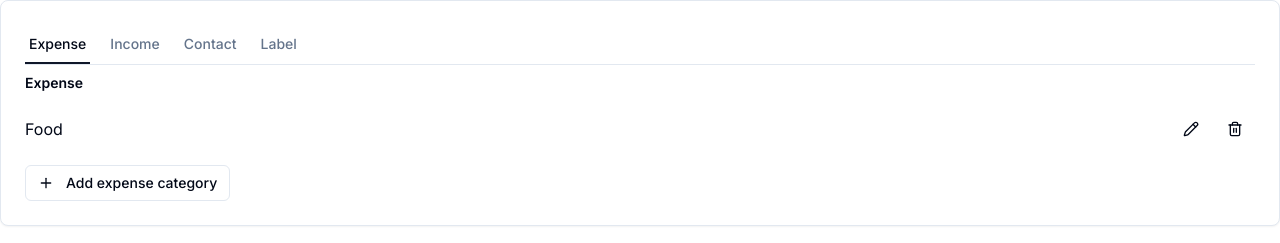
ProfileDictionariesPane › switches to the Label tab and shows the label dictionary
This screenshot has width=1280, height=243.
Step 1. Click the tab "Label" → (279, 45), box [256,26,301,64]
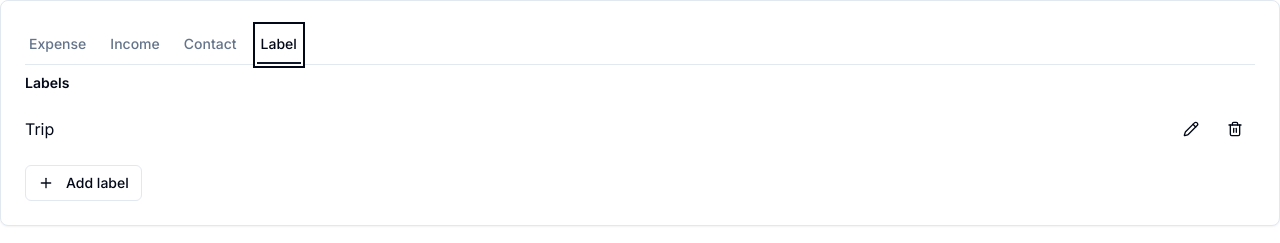
Check: the button "Add label" is shown, box [25,165,142,201]
Check: the text "Trip" is shown, box [25,117,54,141]
